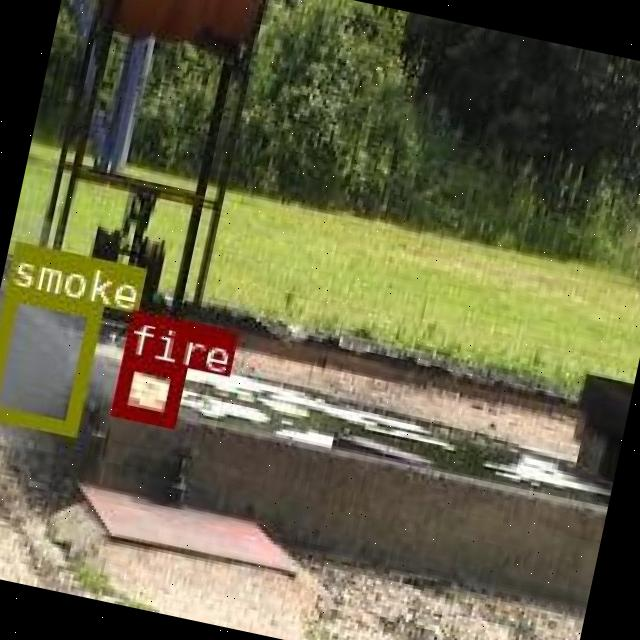fire: (110, 352, 183, 423)
smoke: (0, 284, 101, 433)
